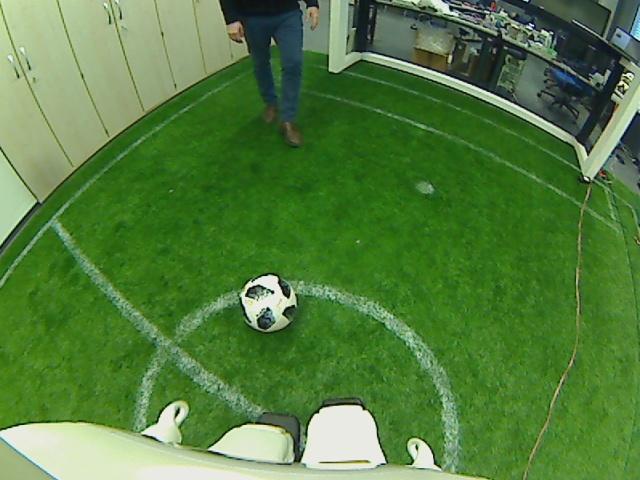ball: (237, 274, 298, 334)
